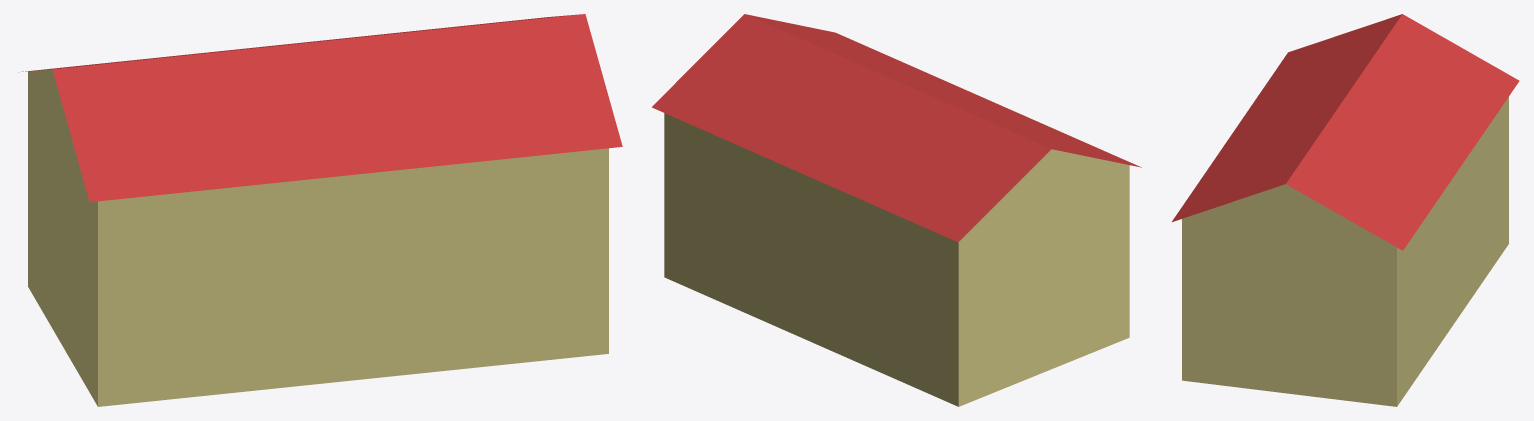
The picture shows the model from 3 angles, left to right: view 1: azimuth 30°, elevation 25°; view 2: azimuth 150°, elevation 25°; view 3: azimuth 270°, elevation 25°; orthographic projection. The views are drawn at different scales.
Visible parts, largest first — view 1: group_5, group_3, group_4; view 2: group_5, group_3, group_4; view 3: group_5, group_3, group_4.
Part boxes in pixels (x1=…): group_5: x1=28, y1=69, x2=608, y2=406; group_3: x1=32, y1=14, x2=608, y2=202; group_4: x1=18, y1=14, x2=622, y2=201; group_5: x1=664, y1=113, x2=1129, y2=406; group_3: x1=652, y1=14, x2=1141, y2=232; group_4: x1=654, y1=14, x2=1128, y2=242; group_5: x1=1182, y1=97, x2=1508, y2=406; group_3: x1=1182, y1=14, x2=1508, y2=250; group_4: x1=1172, y1=14, x2=1519, y2=248.
Bounding box in the file's own units: 27.1 × 20.1 × 13.57.
